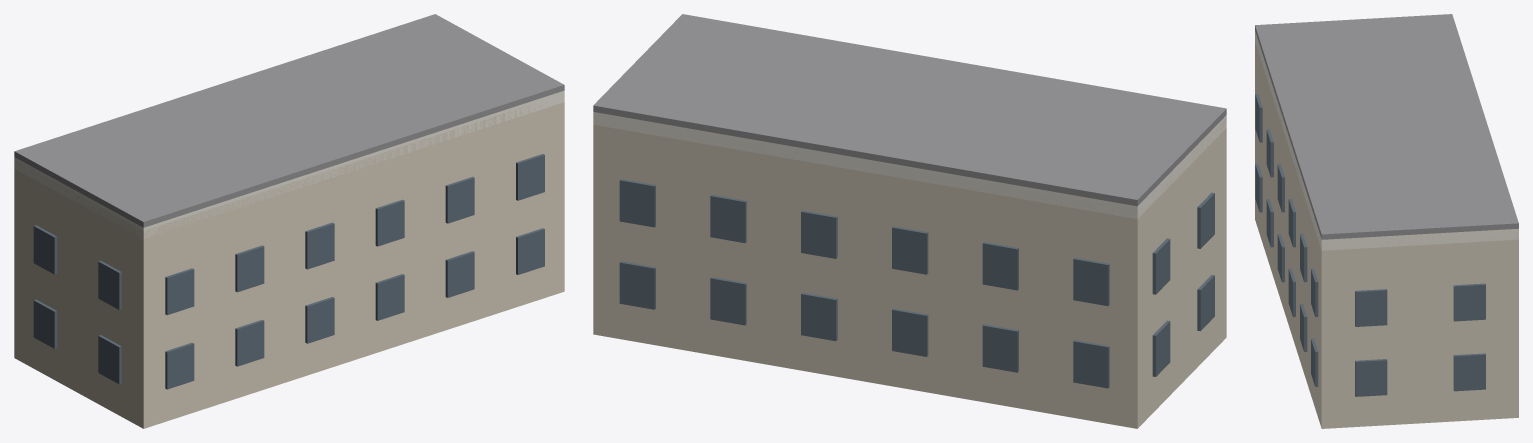
The model's file is s59_gis_248232_820774.glb.
3 views of the same model, side by side, from view 1: azimuth 30°, elevation 25°; view 2: azimuth 150°, elevation 25°; view 3: azimuth 270°, elevation 25° (orthographic). The views are drawn at different scales.
Parts seen in each view (by area): view 1: mass, roofcap, cornice, win_2_0_0, win_2_1_0, win_2_1_2, win_2_0_2, win_2_0_4, win_2_1_4, win_2_0_1, win_2_0_3, win_2_1_1 (+7 smaller); view 2: mass, roofcap, cornice, win_0_0_0, win_0_0_1, win_0_0_3, win_0_0_5, win_0_1_1, win_0_1_2, win_0_0_2, win_0_0_4, win_0_1_0 (+7 smaller); view 3: roofcap, mass, cornice, win_3_0_0, win_3_1_0, win_3_0_1, win_3_1_1, win_2_0_2, win_2_1_0, win_2_0_0, win_2_0_5, win_2_1_1 (+7 smaller).
Part boxes in pixels (bbox=[...]): mass: bbox=[14, 101, 564, 428]; roofcap: bbox=[14, 14, 564, 227]; cornice: bbox=[14, 90, 564, 238]; win_2_0_0: bbox=[165, 342, 194, 389]; win_2_1_0: bbox=[165, 268, 194, 315]; win_2_1_2: bbox=[305, 222, 334, 269]; win_2_0_2: bbox=[305, 297, 334, 343]; win_2_0_4: bbox=[445, 251, 474, 297]; win_2_1_4: bbox=[445, 176, 474, 223]; win_2_0_1: bbox=[235, 319, 264, 366]; win_2_0_3: bbox=[375, 274, 404, 320]; win_2_1_1: bbox=[235, 245, 264, 292]; mass: bbox=[593, 118, 1226, 428]; roofcap: bbox=[593, 14, 1226, 206]; cornice: bbox=[593, 112, 1226, 219]; win_0_0_0: bbox=[619, 261, 655, 309]; win_0_0_1: bbox=[710, 277, 746, 325]; win_0_0_3: bbox=[892, 308, 928, 356]; win_0_0_5: bbox=[1073, 340, 1109, 388]; win_0_1_1: bbox=[710, 194, 746, 243]; win_0_1_2: bbox=[801, 210, 837, 258]; win_0_0_2: bbox=[801, 292, 837, 341]; win_0_0_4: bbox=[982, 324, 1018, 372]; win_0_1_0: bbox=[619, 179, 655, 227]; roofcap: bbox=[1255, 14, 1518, 239]; mass: bbox=[1255, 42, 1518, 428]; cornice: bbox=[1255, 31, 1518, 250]; win_3_0_0: bbox=[1355, 359, 1387, 396]; win_3_1_0: bbox=[1355, 289, 1387, 326]; win_3_0_1: bbox=[1453, 353, 1485, 391]; win_3_1_1: bbox=[1453, 283, 1485, 321]; win_2_0_2: bbox=[1277, 233, 1284, 282]; win_2_1_0: bbox=[1255, 94, 1262, 142]; win_2_0_0: bbox=[1255, 164, 1262, 212]; win_2_0_5: bbox=[1311, 338, 1318, 386]; win_2_1_1: bbox=[1266, 129, 1273, 177].
Bounding box in the file's own units: 20.3 × 8.35 × 10.27.
